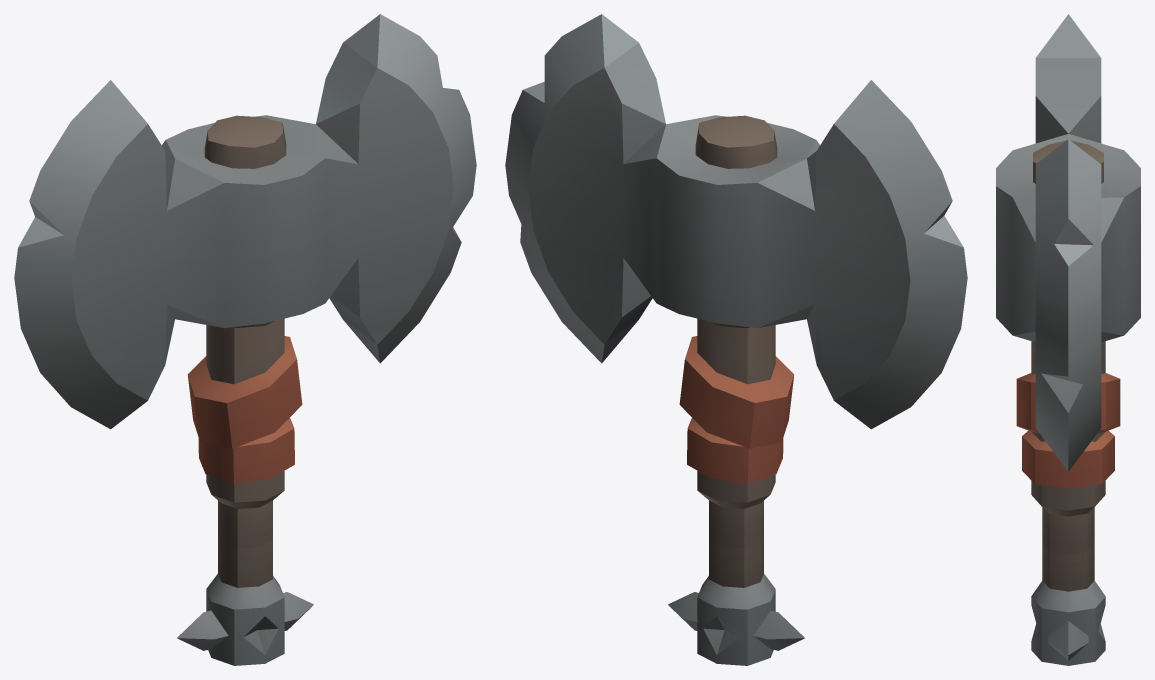
Rendered from axe.glb.
The picture shows the model from 3 angles, left to right: view 1: azimuth 30°, elevation 25°; view 2: azimuth 150°, elevation 25°; view 3: azimuth 270°, elevation 25°; orthographic projection. The views are drawn at different scales.
Parts seen in each view (by area): view 1: Skeleton_Axe; view 2: Skeleton_Axe; view 3: Skeleton_Axe.
Boxes of the visible parts, left/top/right/bottom form: Skeleton_Axe: left=14, top=14, right=476, bottom=665; Skeleton_Axe: left=505, top=14, right=967, bottom=665; Skeleton_Axe: left=996, top=14, right=1140, bottom=665.
Size of the model in its own units: 0.9886 by 1.25 by 0.2819.
1 material, 1 textured.
